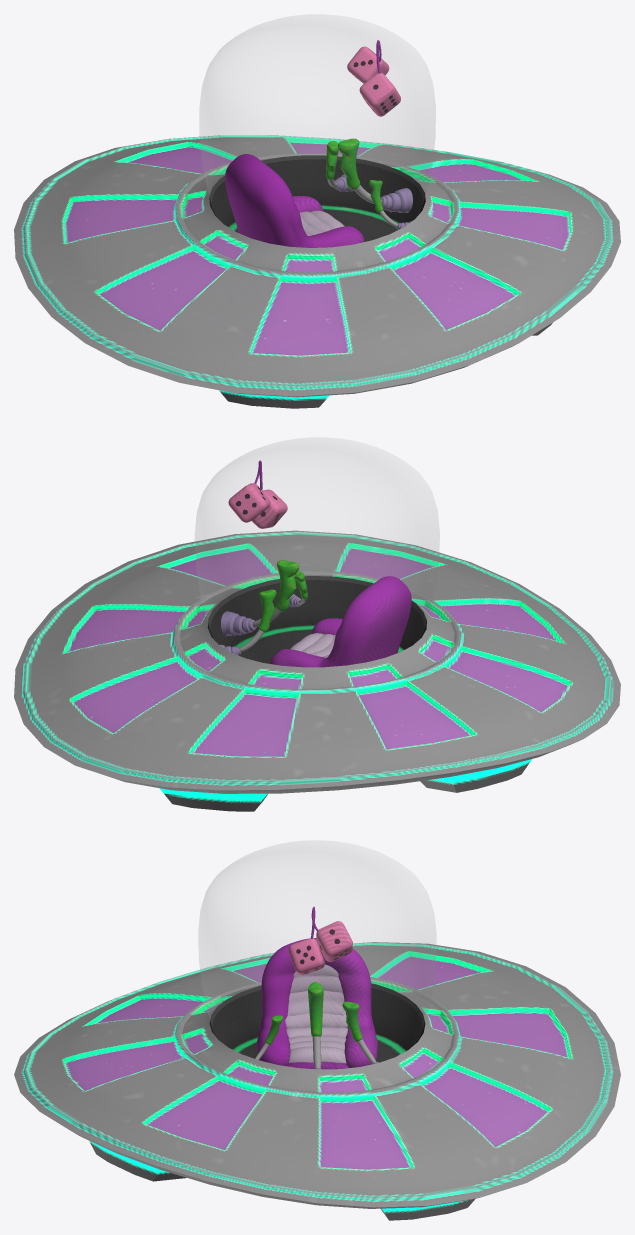
The model's file is Spaceship_baked.fbx.
3 renders of one model, top to bottom at view 1: azimuth 30°, elevation 25°; view 2: azimuth 150°, elevation 25°; view 3: azimuth 270°, elevation 25°, orthographic.
Parts seen in each view (by area): view 1: Saucer; view 2: Saucer; view 3: Saucer.
Boxes of the visible parts, x1,y1,x2,y2 form: Saucer: (14,14,620,408); Saucer: (14,437,620,811); Saucer: (14,840,620,1220).
Size of the model in its own units: 507 by 266 by 507.
Materials: 2 (1 with a texture image).
